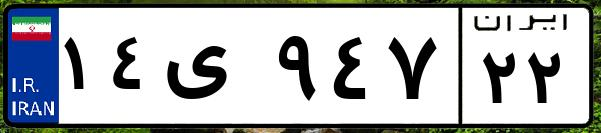1: (57, 26, 110, 100)
2: (475, 38, 525, 113), (525, 38, 570, 115)
4: (330, 28, 385, 110), (110, 28, 158, 98)
7: (385, 28, 445, 110)
9: (270, 28, 330, 110)
ی: (158, 20, 270, 120)
